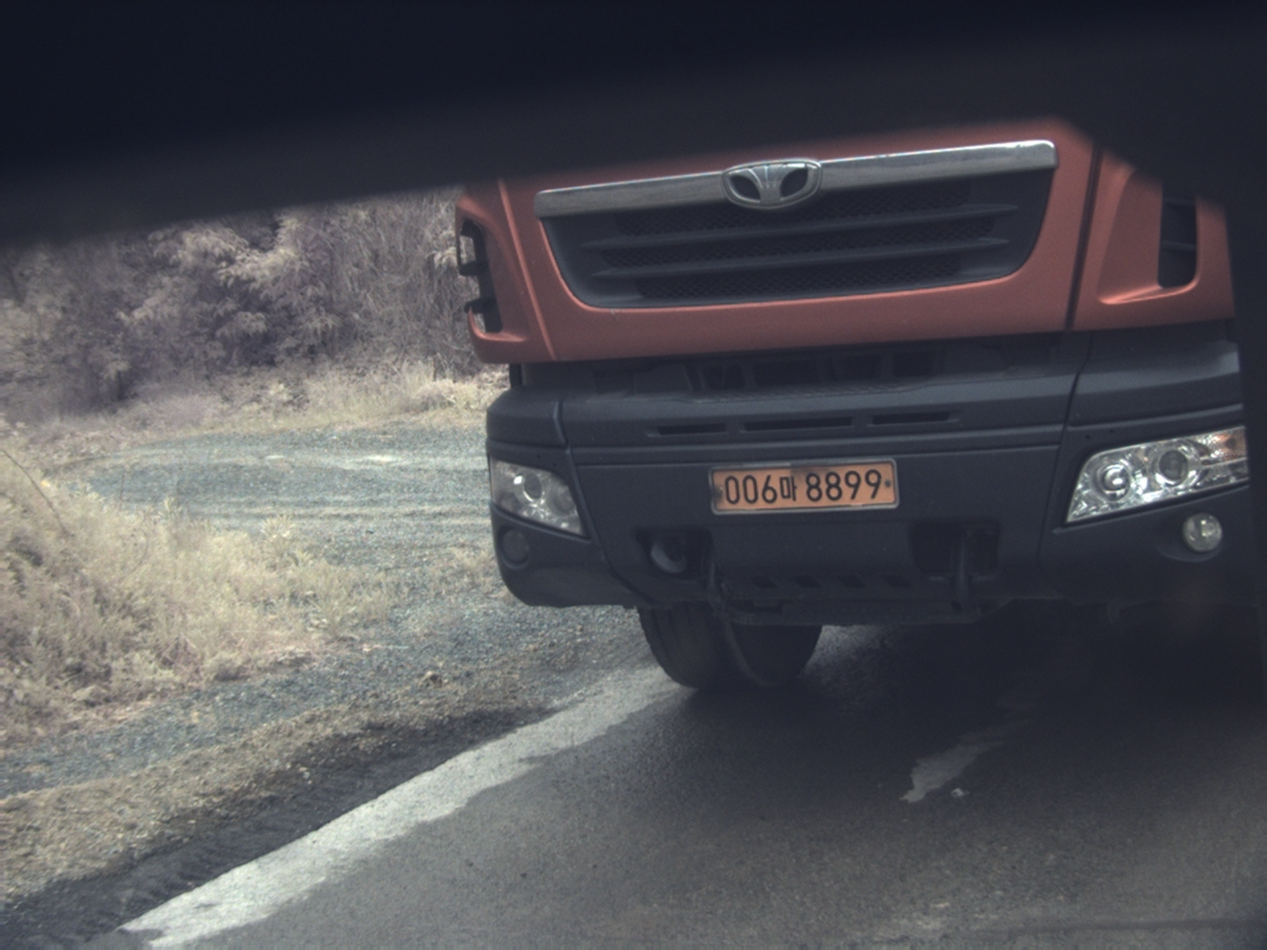license_plate: (713, 460, 896, 512)
truck: (458, 121, 1255, 688)
